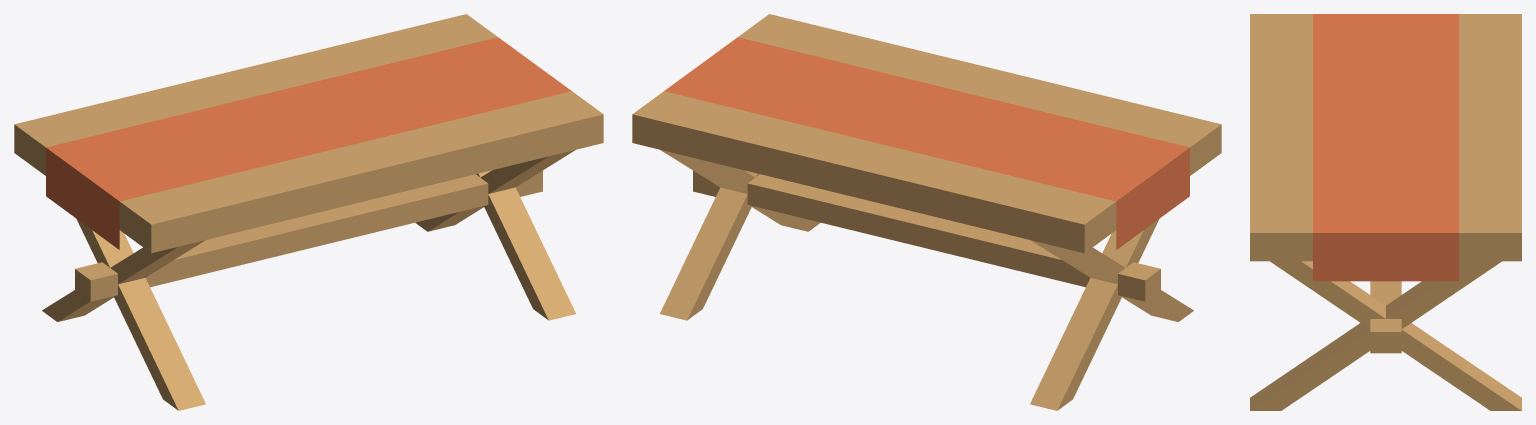
The model's file is tableCrossCloth.glb.
3 renders of one model, left to right at view 1: azimuth 30°, elevation 25°; view 2: azimuth 150°, elevation 25°; view 3: azimuth 270°, elevation 25°, orthographic.
Size of the model in its own units: 8.52 by 3.47 by 4.47.
